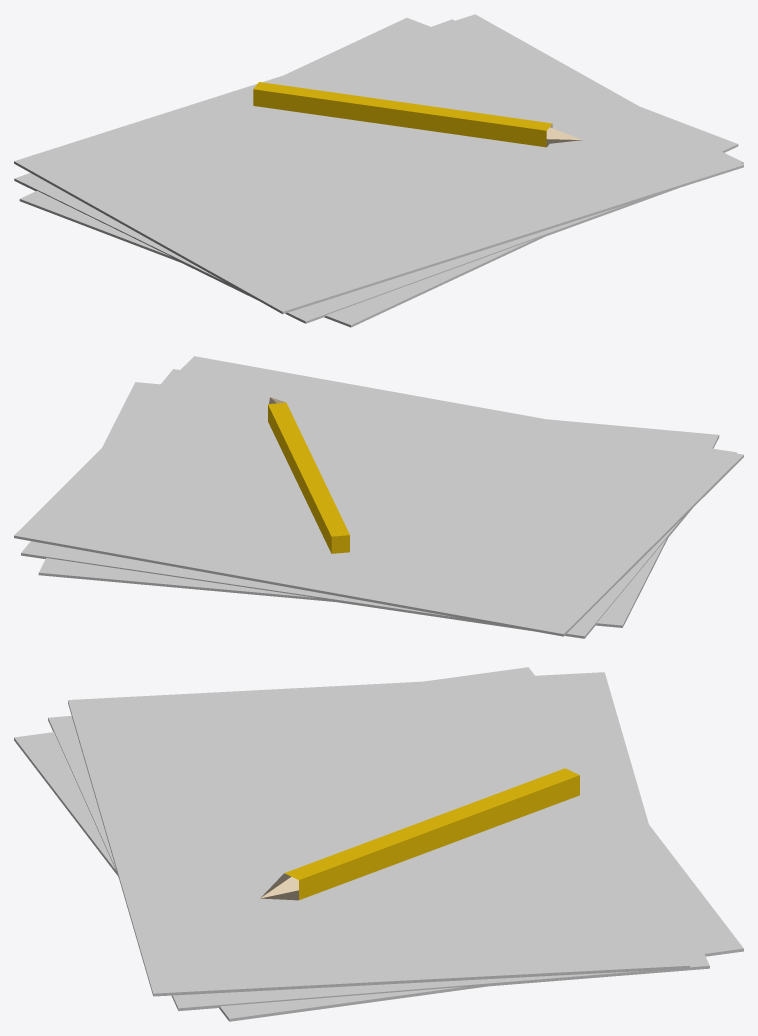
The model's file is paperStack.fbx.
The picture shows the model from 3 angles, top to bottom: view 1: azimuth 30°, elevation 25°; view 2: azimuth 150°, elevation 25°; view 3: azimuth 270°, elevation 25°; orthographic projection. The views are drawn at different scales.
Parts seen in each view (by area): view 1: Plane.003, Cube.082, Plane.001, Plane.002; view 2: Plane.003, Plane.001, Plane.002, Cube.082; view 3: Plane.003, Cube.082, Plane.001, Plane.002.
Part boxes in pixels (x1,y1,x2,y2): Plane.003: (14, 14, 743, 314); Cube.082: (253, 82, 581, 147); Plane.001: (19, 18, 738, 327); Plane.002: (14, 19, 743, 323); Plane.003: (14, 356, 743, 636); Plane.001: (38, 382, 719, 627); Plane.002: (21, 369, 736, 638); Cube.082: (268, 397, 349, 553); Plane.003: (68, 672, 689, 996); Cube.082: (260, 768, 579, 900); Plane.001: (14, 667, 743, 1021); Plane.002: (48, 716, 709, 1011).
Size of the model in its own units: 123 by 7.98 by 108.
